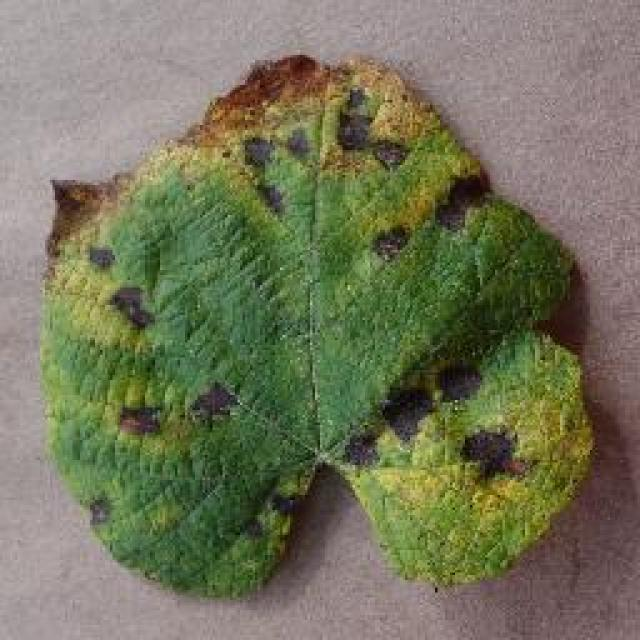Gra_Leaf_blight_Isariopsis_Leaf_Spot: (230, 82, 499, 268), (338, 345, 534, 517), (111, 366, 254, 459), (74, 226, 172, 342), (235, 475, 309, 545), (73, 483, 135, 535)
